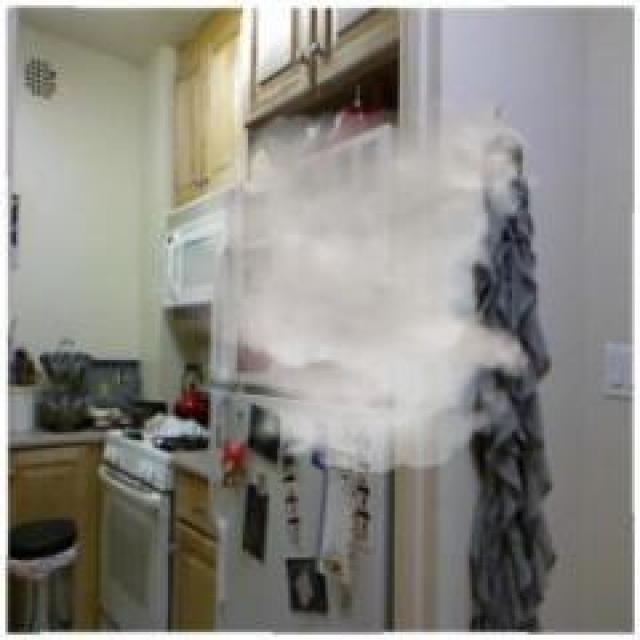Smoke: (140, 93, 543, 474)
